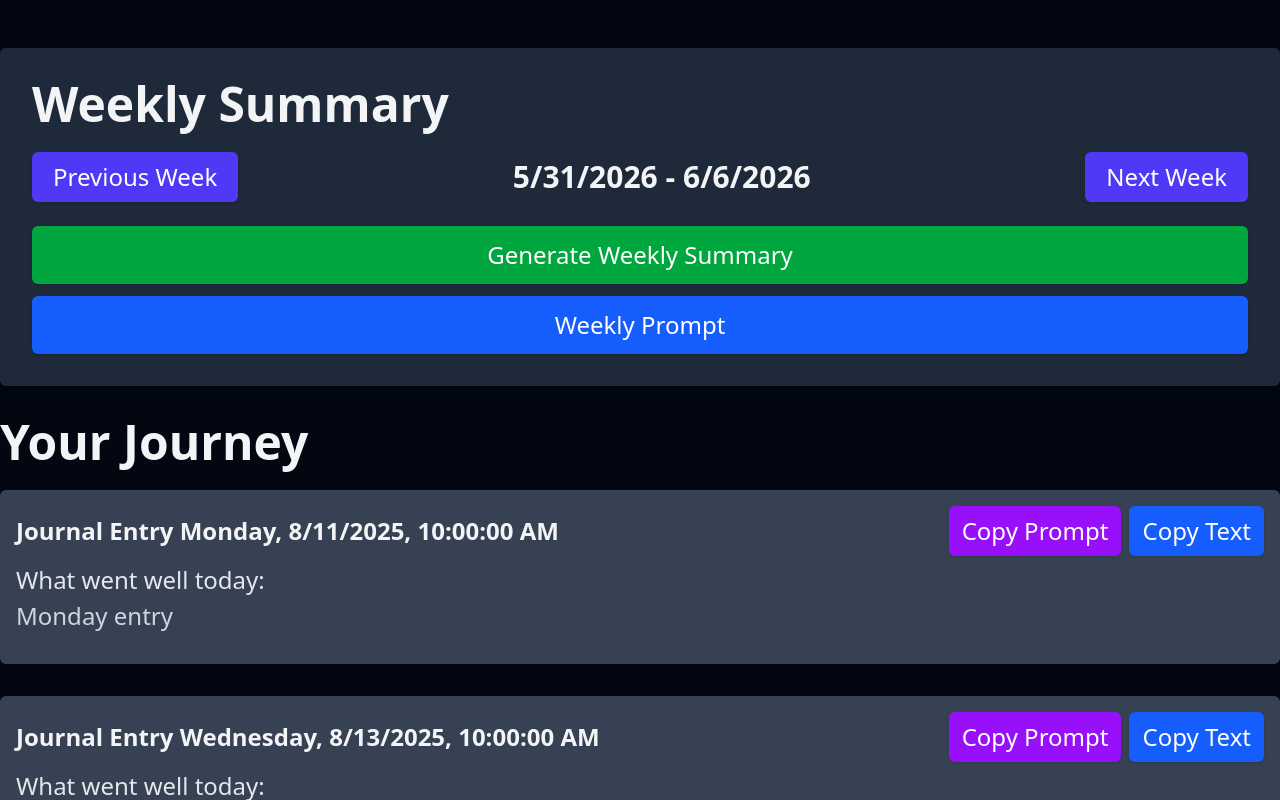
Test: JournalHistorySection › should generate a weekly summary for entries within a selected week
The width and height of the screenshot is (1280, 800).
Click the button "Previous Week".
click(135, 177)  # box top-left (32, 152), bottom-right (238, 202)
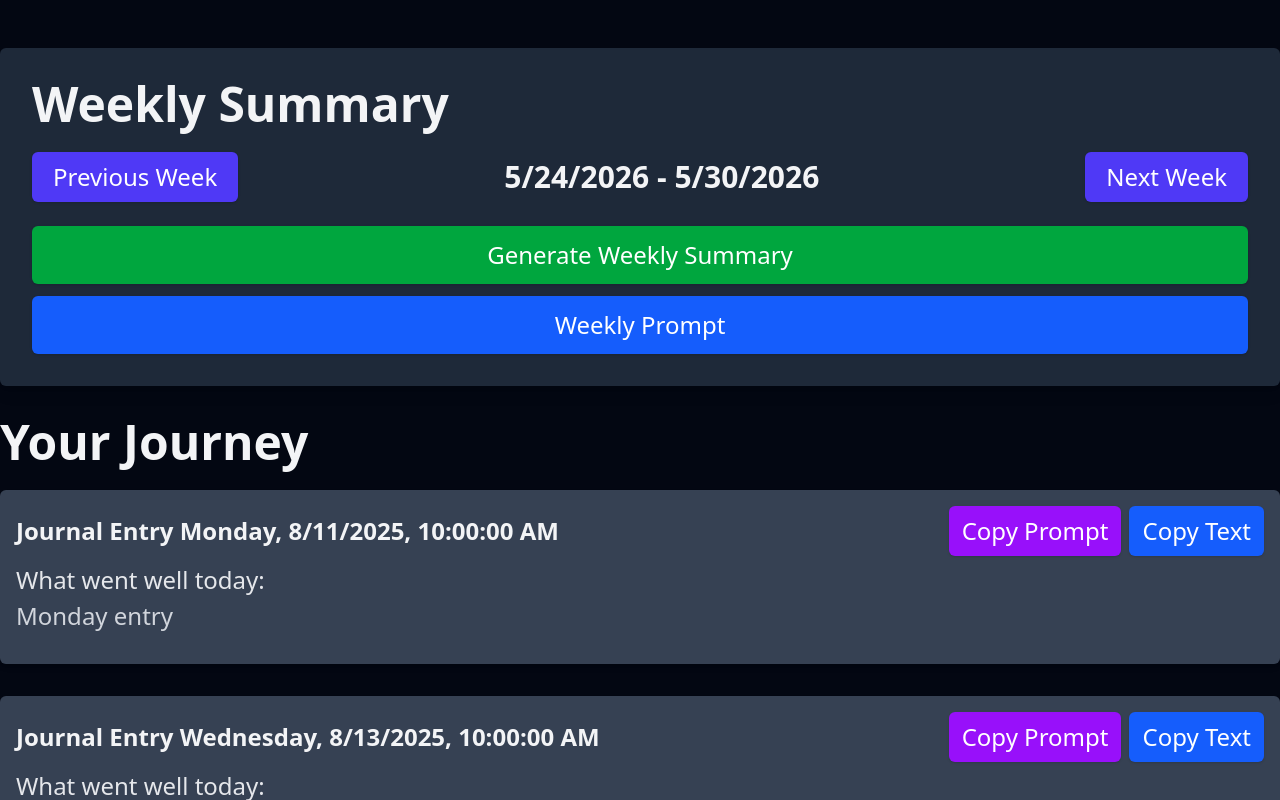
Click the button "Previous Week".
click(135, 177)  # box top-left (32, 152), bottom-right (238, 202)
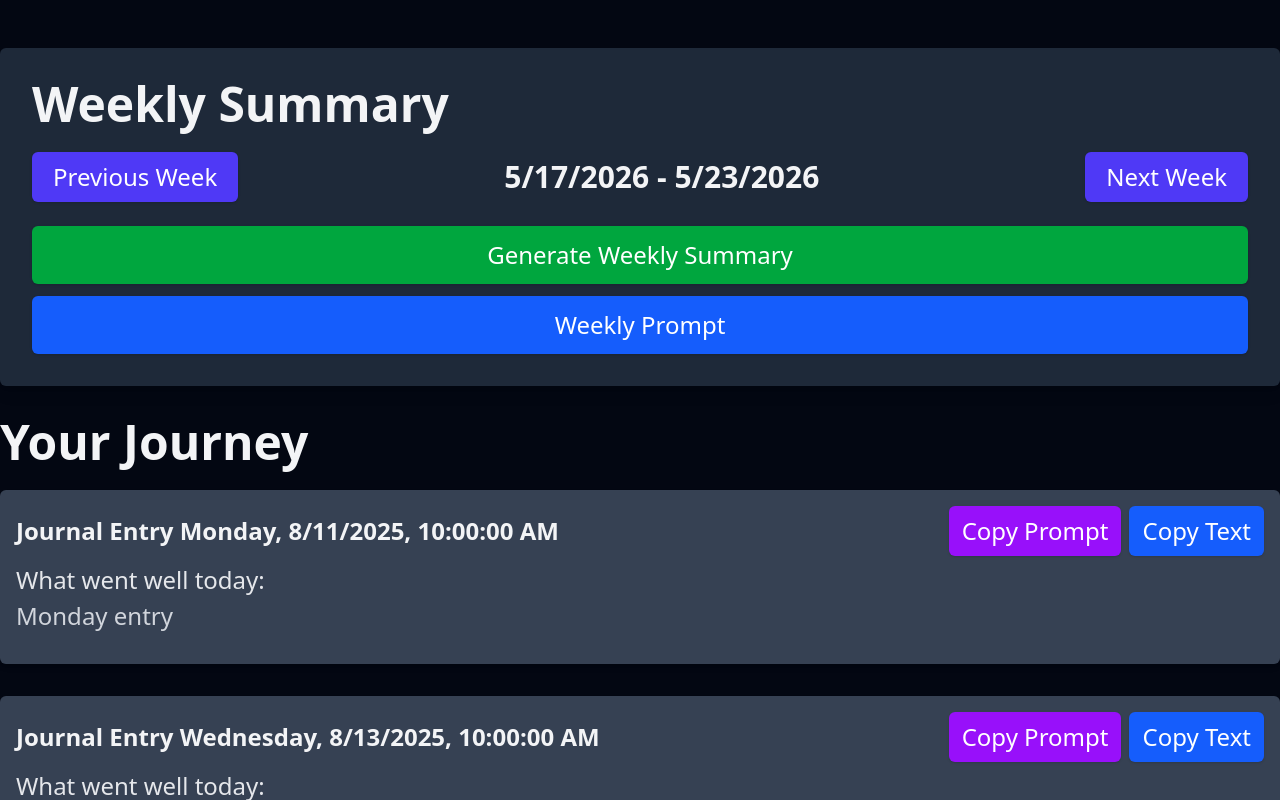
Now look for the Generate Weekly Summary button
Click the button "Generate Weekly Summary".
click(640, 255)  # box top-left (32, 226), bottom-right (1248, 284)
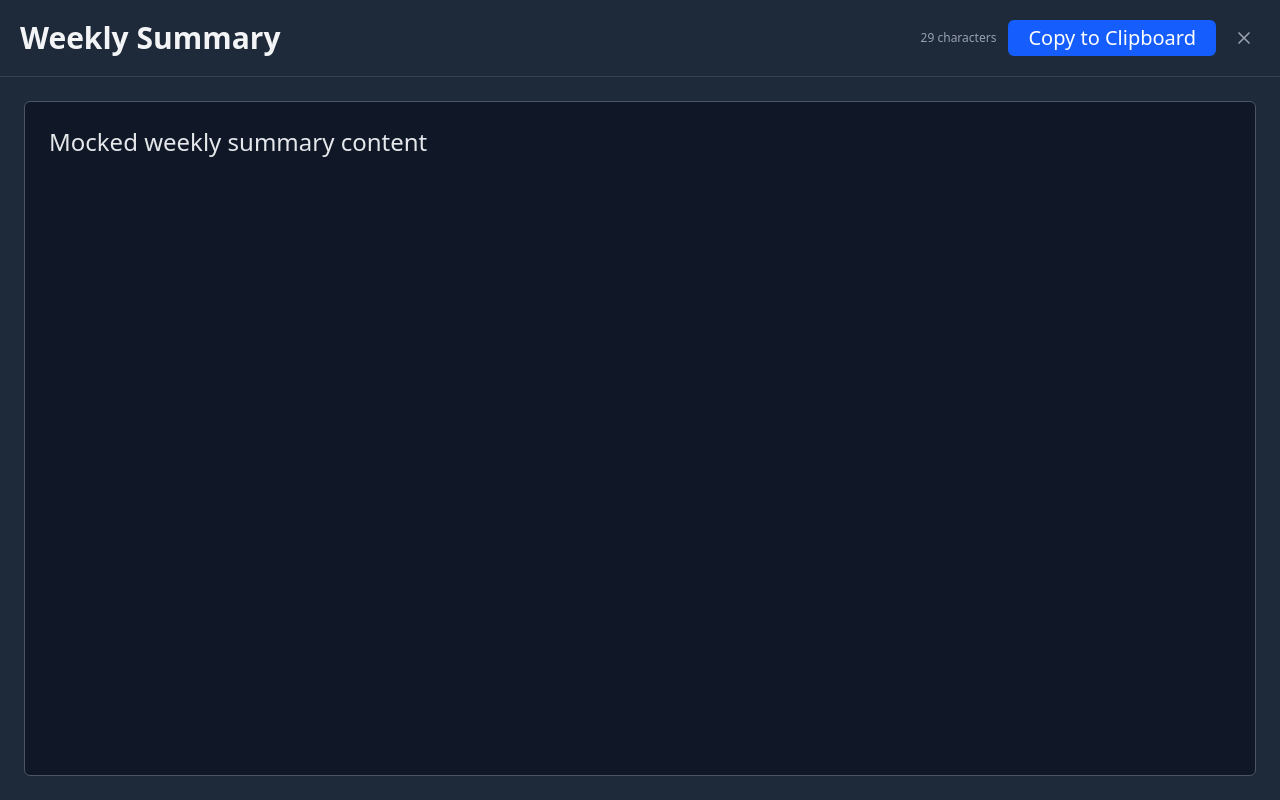
Check: the dialog "Weekly Summary 29 characters Copy to Clipboard" is shown
Check: the text box holds "Mocked weekly summary content"
